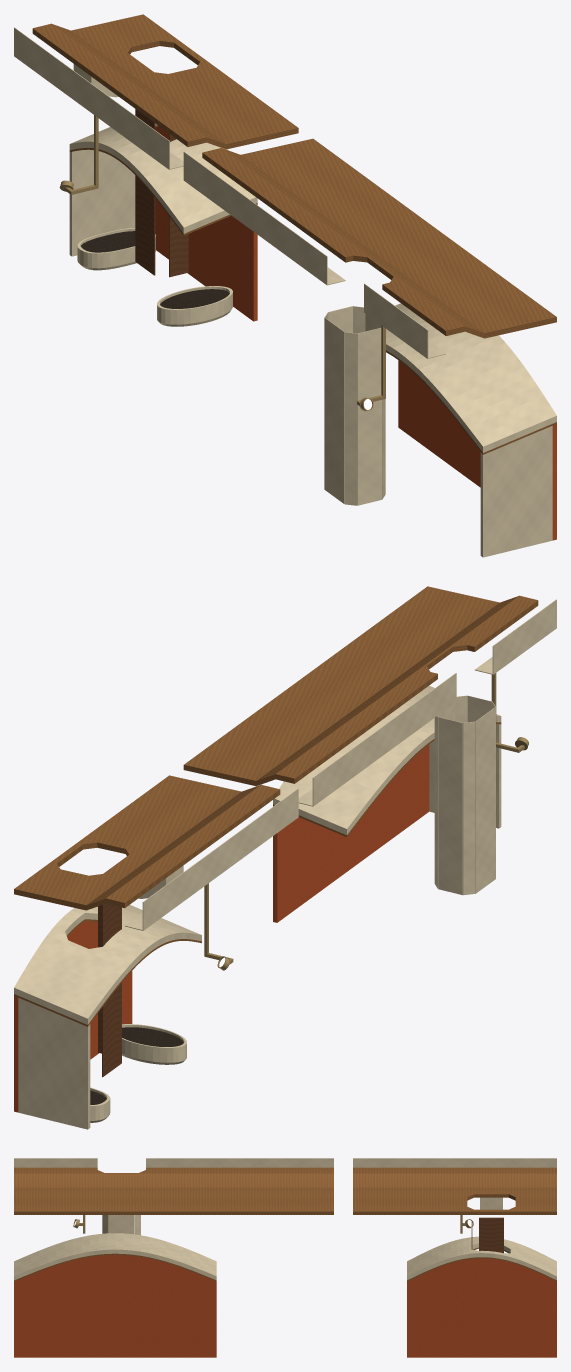
Rendered from AST-AQU-016_connected_gallery_surroundings_r04.glb.
The picture shows the model from 3 angles, top to bottom: view 1: azimuth 30°, elevation 25°; view 2: azimuth 150°, elevation 25°; view 3: azimuth 270°, elevation 25°; orthographic projection. The views are drawn at different scales.
Visible parts, largest first — view 1: CG_UpperCrown_1_2_0, CG_Aft_OuterBearing, CG_Fore_ClayWall, CG_Market_ClayWall, CG_Fore_OuterBearing, CG_UpperCrown_0_2_3, FIN_LongReturn_PublicFace_0, FIN_LongReturn_PublicFace_1, FIN_Pier3_MineralFace_4, CG_UpperCrown_0_0_0, FIN_Pier3_MineralFace_6, CG_UpperCrown_1_0_0 (+25 smaller); view 2: CG_UpperCrown_1_2_0, CG_Market_ClayWall, CG_Fore_OuterBearing, CG_UpperCrown_0_2_3, FIN_LongReturn_PublicFace_0, FIN_LongReturn_PublicFace_1, FIN_Pier3_MineralFace_0, CG_UpperCrown_0_0_0, FIN_Pier3_MineralFace_6, CG_UpperCrown_1_0_0, CG_UpperCrown_0_2_0, FIN_Pier3_MineralFace_7 (+21 smaller); view 3: CG_Market_ClayWall, CG_Fore_ClayWall, CG_UpperCrown_1_2_0, CG_UpperCrown_1_1_0, CG_UpperCrown_0_1_0, CG_UpperCrown_0_2_3, FIN_LongReturn_PublicFace_0, FIN_LongReturn_PublicFace_1, CG_UpperCrown_0_0_0, CG_UpperCrown_1_0_0, CG_UpperCrown_0_2_0, CG_UpperCrown_0_2_2 (+7 smaller).
Part boxes in pixels (x1,y1,x2,y2): CG_UpperCrown_1_2_0: [241, 138, 556, 338]; CG_Aft_OuterBearing: [480, 426, 552, 557]; CG_Fore_ClayWall: [155, 126, 257, 321]; CG_Market_ClayWall: [398, 360, 556, 540]; CG_Fore_OuterBearing: [69, 149, 135, 256]; CG_UpperCrown_0_2_3: [172, 62, 292, 149]; FIN_LongReturn_PublicFace_0: [14, 27, 169, 169]; FIN_LongReturn_PublicFace_1: [183, 151, 327, 285]; FIN_Pier3_MineralFace_4: [357, 328, 381, 505]; CG_UpperCrown_0_0_0: [32, 23, 206, 146]; FIN_Pier3_MineralFace_6: [324, 318, 344, 504]; CG_UpperCrown_1_0_0: [202, 148, 364, 262]; CG_UpperCrown_1_2_0: [183, 586, 499, 785]; CG_Market_ClayWall: [273, 744, 429, 922]; CG_Fore_OuterBearing: [18, 998, 90, 1129]; CG_UpperCrown_0_2_3: [83, 777, 241, 849]; FIN_LongReturn_PublicFace_0: [142, 788, 298, 930]; FIN_LongReturn_PublicFace_1: [312, 673, 456, 806]; FIN_Pier3_MineralFace_0: [438, 717, 462, 895]; CG_UpperCrown_0_0_0: [106, 784, 280, 907]; FIN_Pier3_MineralFace_6: [475, 707, 495, 893]; CG_UpperCrown_1_0_0: [275, 669, 437, 783]; CG_UpperCrown_0_2_0: [14, 866, 117, 910]; FIN_Pier3_MineralFace_7: [463, 721, 475, 895]; CG_Market_ClayWall: [14, 1255, 216, 1357]; CG_Fore_ClayWall: [407, 1258, 556, 1357]; CG_UpperCrown_1_2_0: [14, 1187, 333, 1214]; CG_UpperCrown_1_1_0: [14, 1173, 333, 1187]; CG_UpperCrown_0_1_0: [353, 1173, 556, 1187]; CG_UpperCrown_0_2_3: [353, 1187, 473, 1209]; FIN_LongReturn_PublicFace_0: [353, 1158, 556, 1167]; FIN_LongReturn_PublicFace_1: [146, 1158, 333, 1167]; CG_UpperCrown_0_0_0: [353, 1167, 556, 1173]; CG_UpperCrown_1_0_0: [146, 1167, 333, 1173]; CG_UpperCrown_0_2_0: [515, 1187, 556, 1214]; CG_UpperCrown_0_2_2: [353, 1209, 507, 1214].
Size of the model in its own units: 5.36 by 8.26 by 25.7.
Materials: 7 (6 with a texture image).
